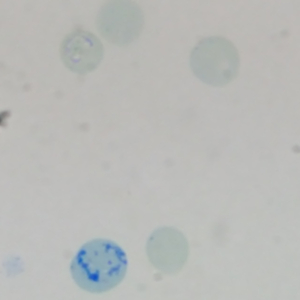aggregate reticulocyte: (67, 237, 130, 294)
erythrocyte: (187, 35, 241, 90), (93, 1, 146, 48), (58, 27, 106, 75)
punctate reticulocyte: (144, 225, 190, 276)
